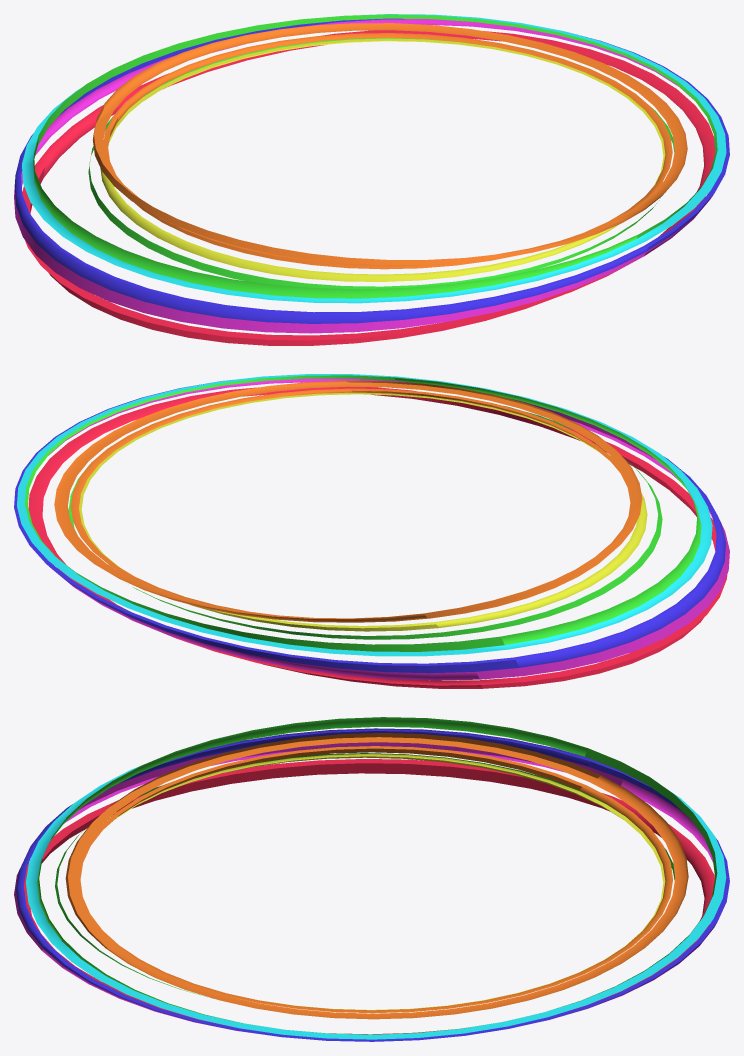
Rendered from Rings001.fbx.
3 views of the same model, one above another, from view 1: azimuth 30°, elevation 25°; view 2: azimuth 150°, elevation 25°; view 3: azimuth 270°, elevation 25° (orthographic). The views are drawn at different scales.
Visible parts, largest first — view 1: Polygonal_Geometry; view 2: Polygonal_Geometry; view 3: Polygonal_Geometry.
Boxes of the visible parts, x1,y1,x2,y2 form: Polygonal_Geometry: (14, 14, 729, 345); Polygonal_Geometry: (14, 374, 729, 688); Polygonal_Geometry: (14, 717, 729, 1041).
Size of the model in its own units: 4.06 by 0.4502 by 3.71.
